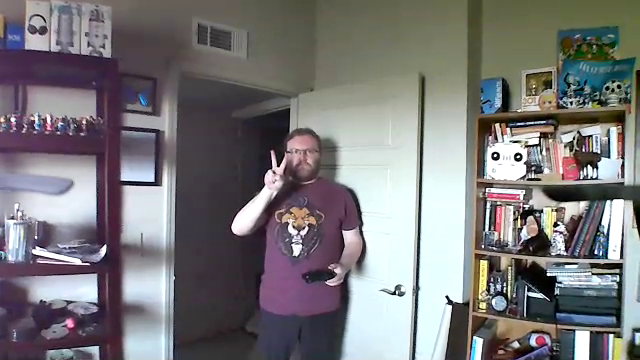peace: (257, 146, 292, 194)
